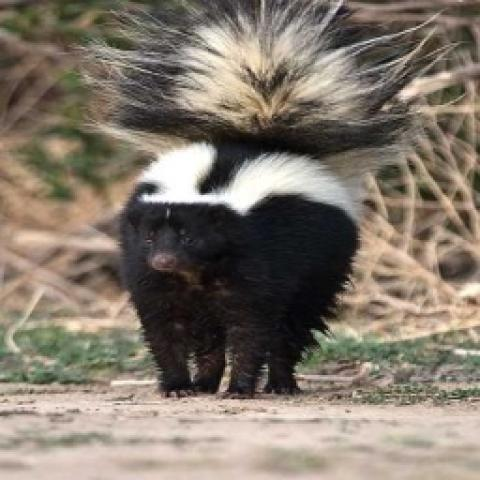small_animal: (73, 0, 422, 399)
